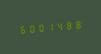eight: (62, 18, 70, 32), (71, 18, 79, 31)
four: (53, 19, 61, 32)
one: (44, 20, 52, 33)
six: (17, 22, 25, 36)
zero: (26, 22, 34, 35), (35, 21, 43, 34)
